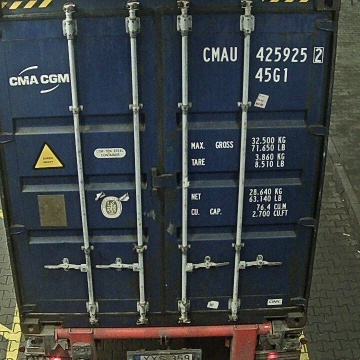serial_id: (202, 46, 322, 62)
